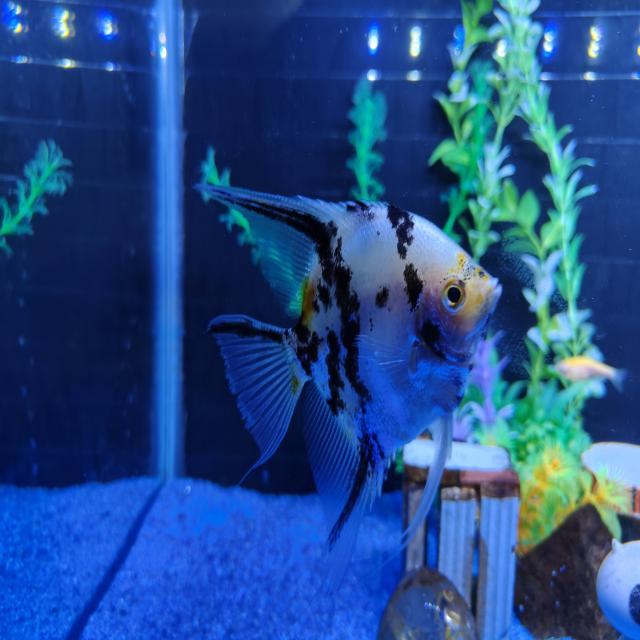Fish: (197, 185, 501, 592), (597, 539, 639, 639), (555, 356, 626, 392)
